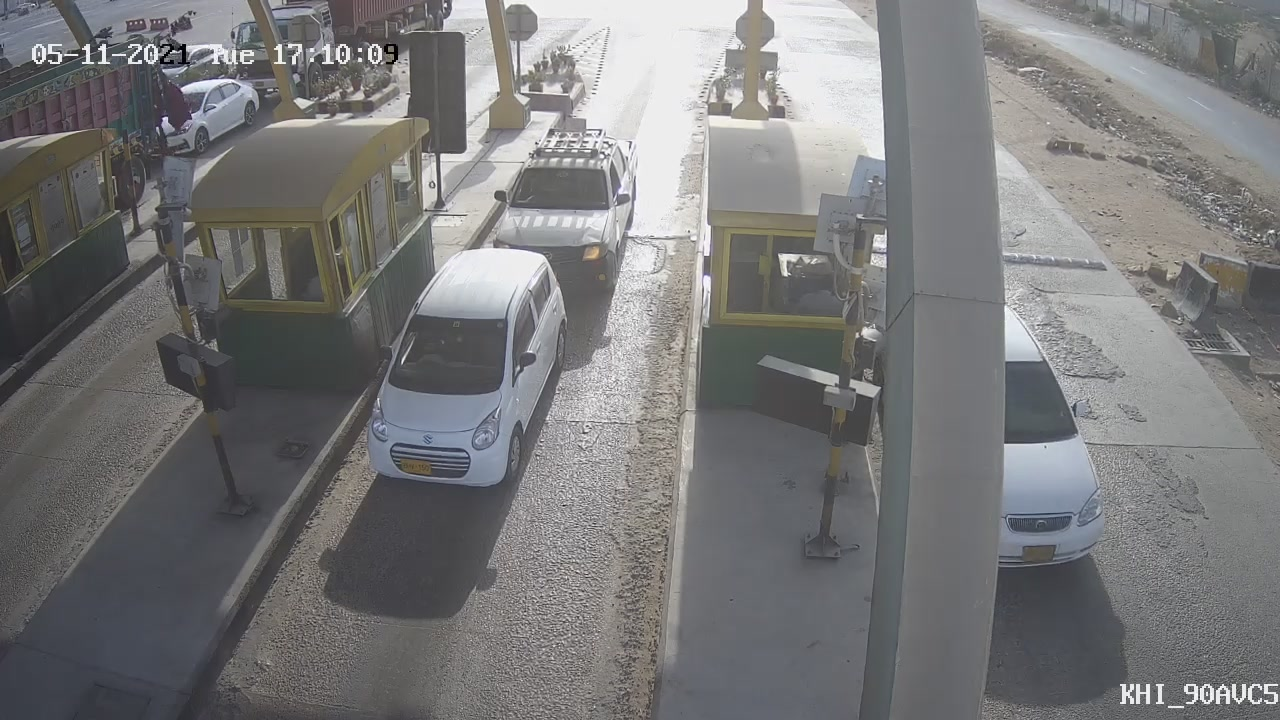F1: (342, 233, 590, 513), (476, 107, 651, 312)
